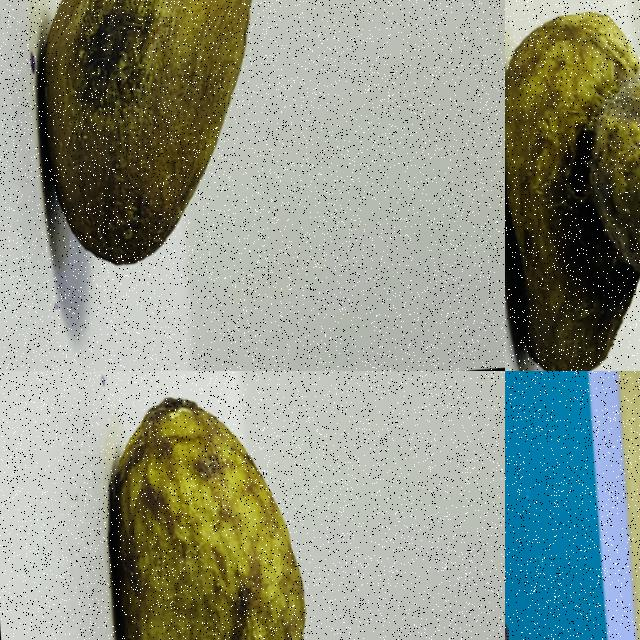Agglomerated_cocoabeans: (505, 0, 639, 370)
Fine_cocoabeans: (1, 0, 315, 358), (53, 371, 337, 639)
